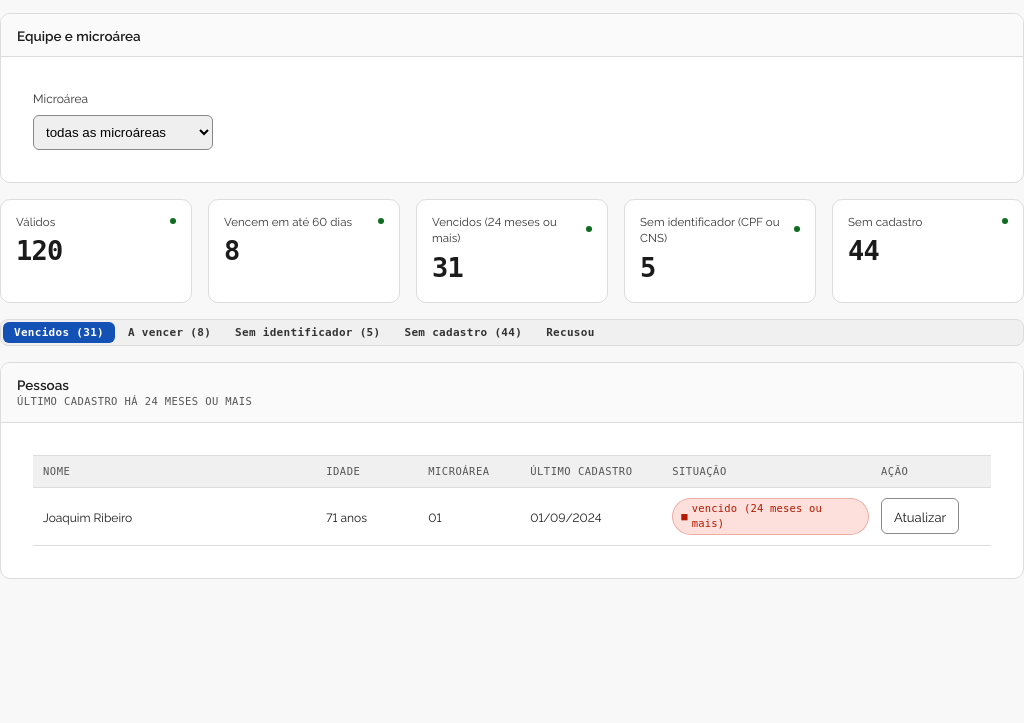
Test case: RegistryStatus › Atualizar → Registrar saída: a ficha fecha, a tela avisa a saída e relê a lista
Click the button with aria-label "Atualizar Joaquim Ribeiro": coordinates (920, 516) [881,498,959,534]
(page scrolled)
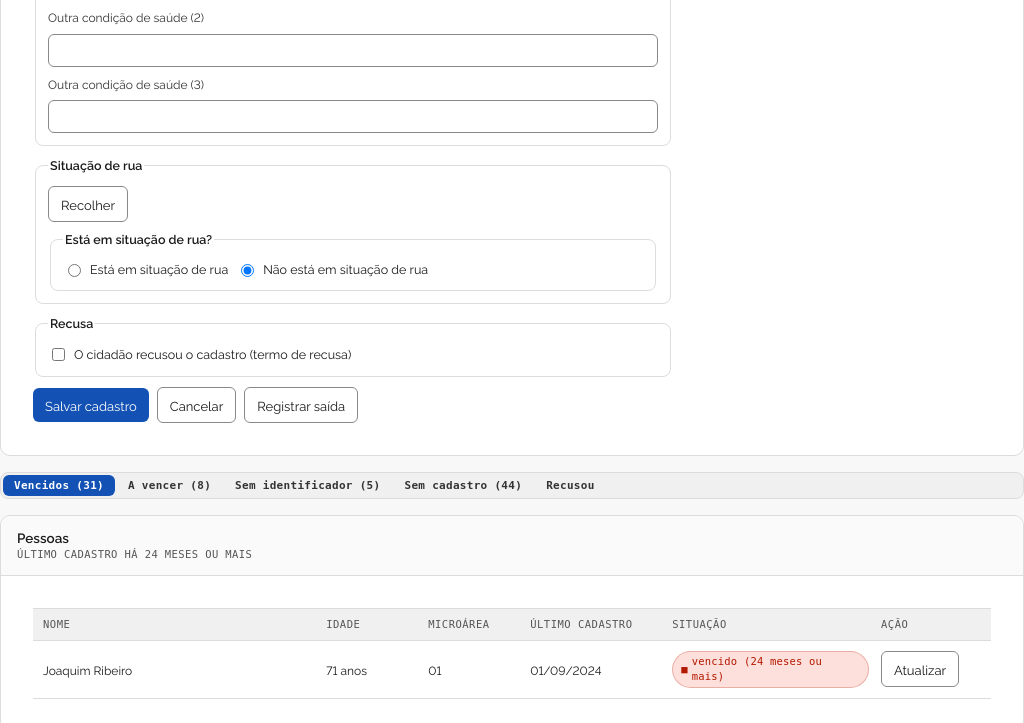
Now the button "Salvar cadastro" is shown, box [33,388,149,422]
Click the button "Registrar saída": coordinates (301, 404) [244,386,358,422]
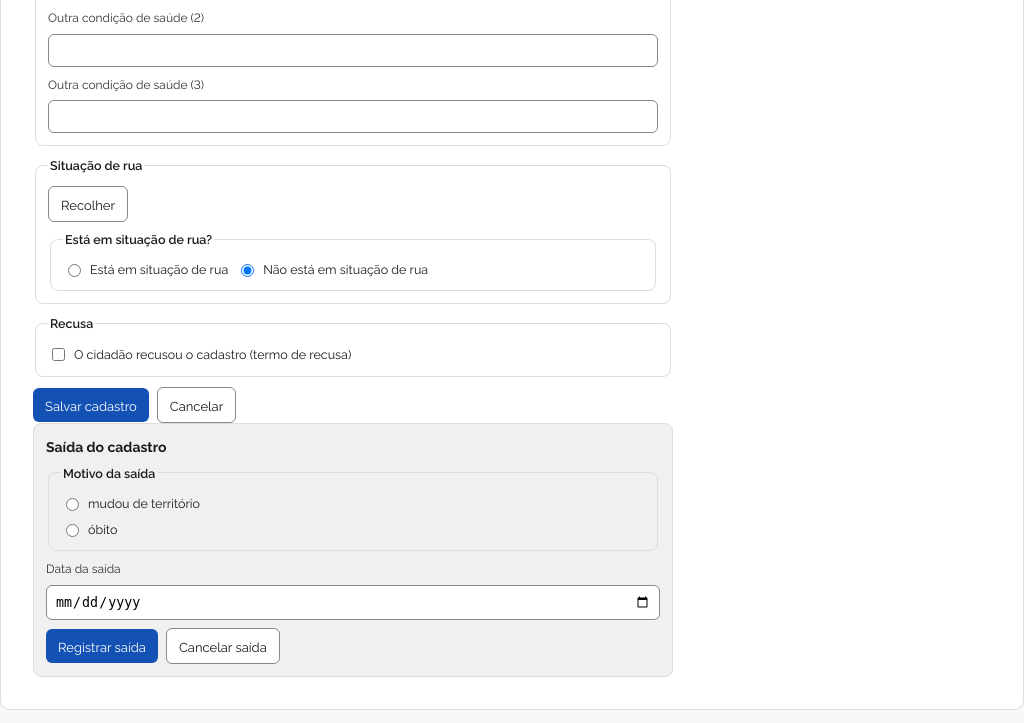
Click the radio button labelled "óbito": coordinates (72, 531) [66,524,79,537]
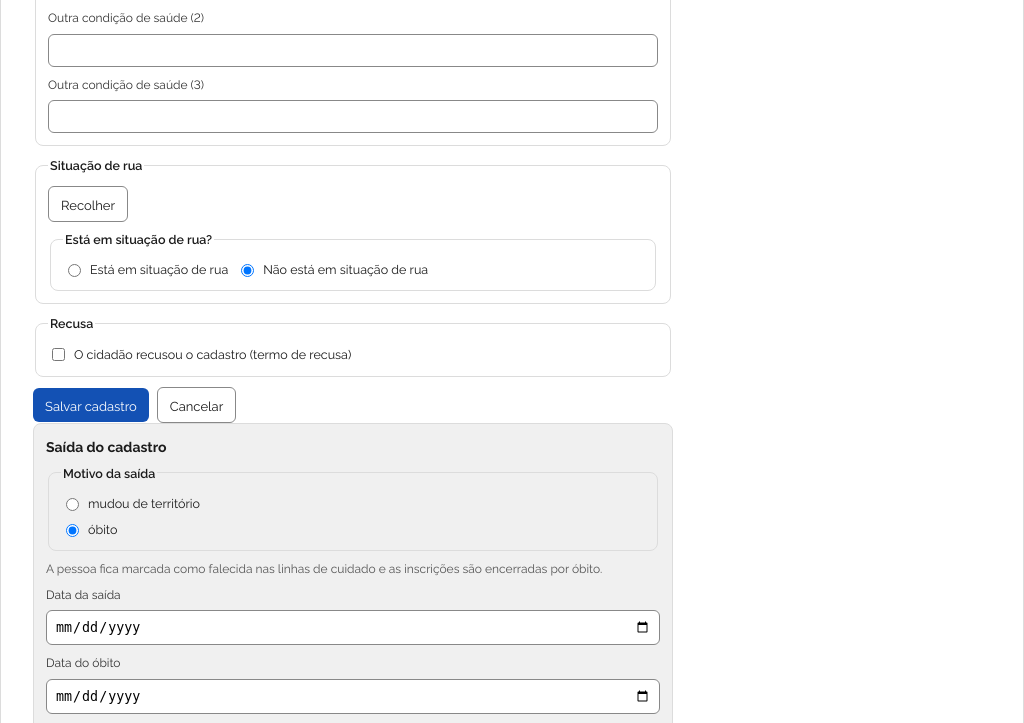
In the date field labelled "Data da saída": coordinates (353, 628) [46,610,660,645], type "2026-10-20"
In the date field labelled "Data do óbito": coordinates (353, 696) [46,679,660,714], type "2026-10-19"
(page scrolled)
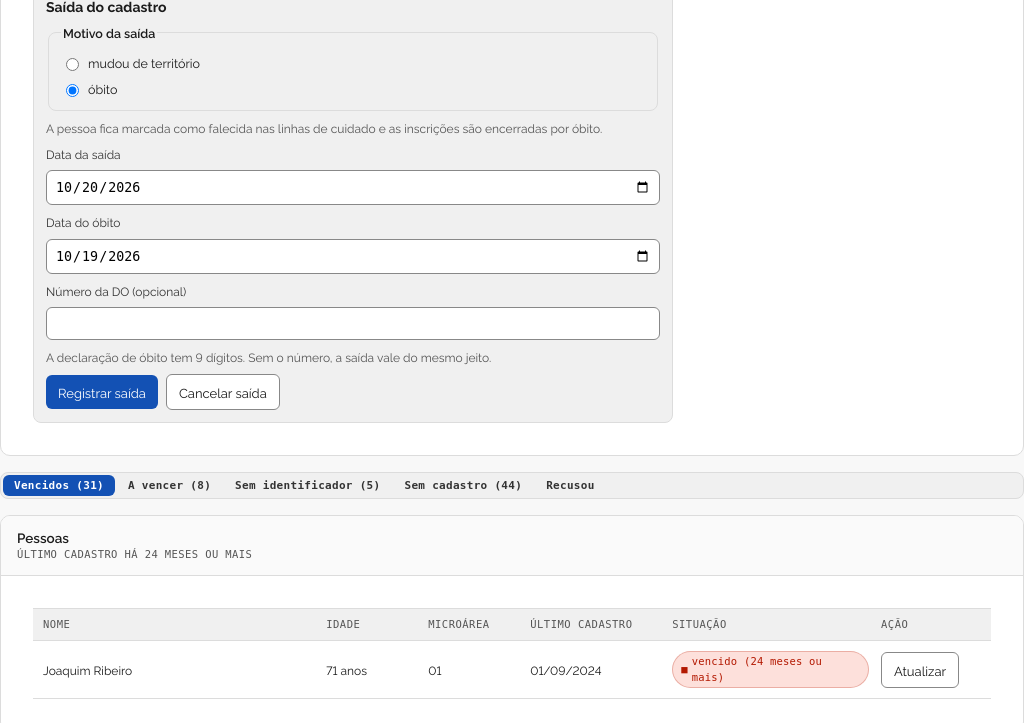
Click the button "Registrar saída": coordinates (102, 392) [46,375,158,409]
(page scrolled)
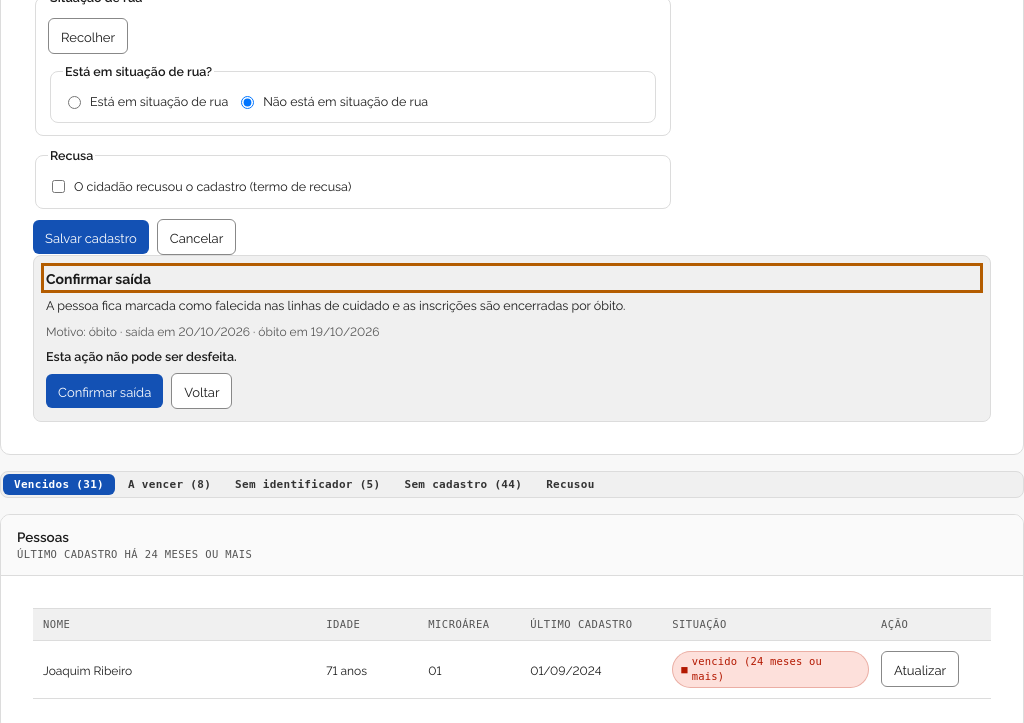
Click the button "Confirmar saída": coordinates (105, 392) [46,374,163,408]
(page scrolled)
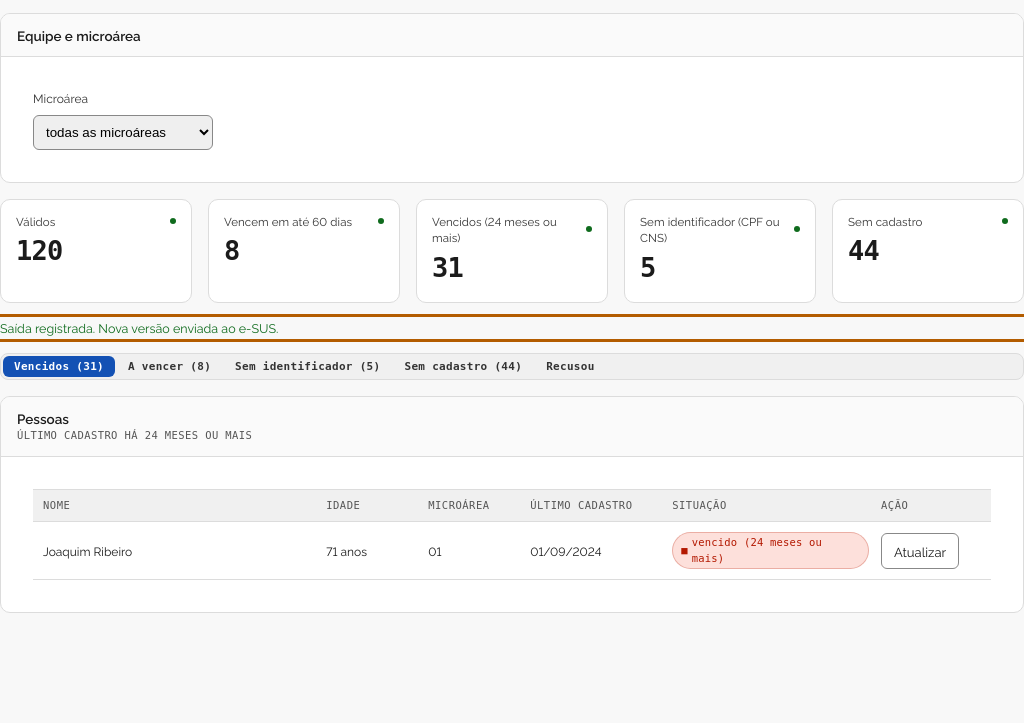
Now the text "Saída registrada. Nova versão enviada ao e-SUS." is shown, box [0,319,278,336]
Now the button "Salvar cadastro" is gone
